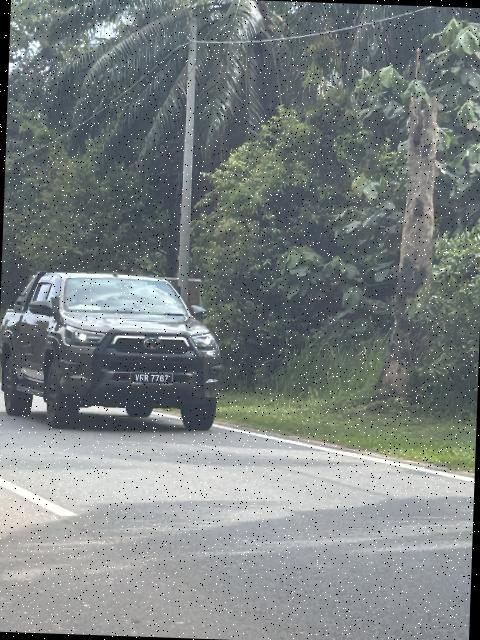License_Plate: (132, 374, 175, 387)
car: (1, 261, 228, 443)
